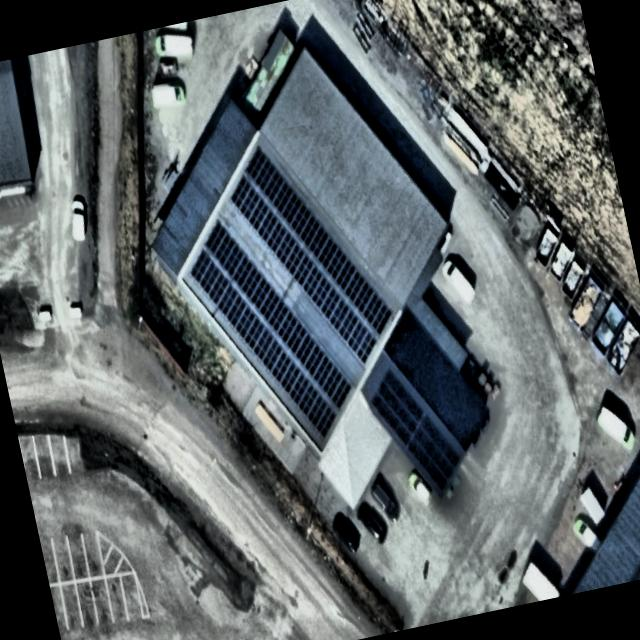roof_pv: (170, 127, 420, 454)
